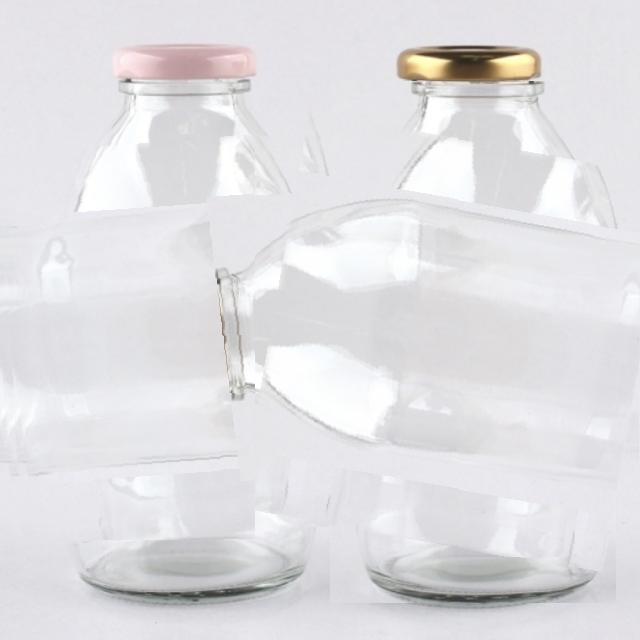recyclable: (255, 125, 640, 557), (0, 134, 395, 541)
